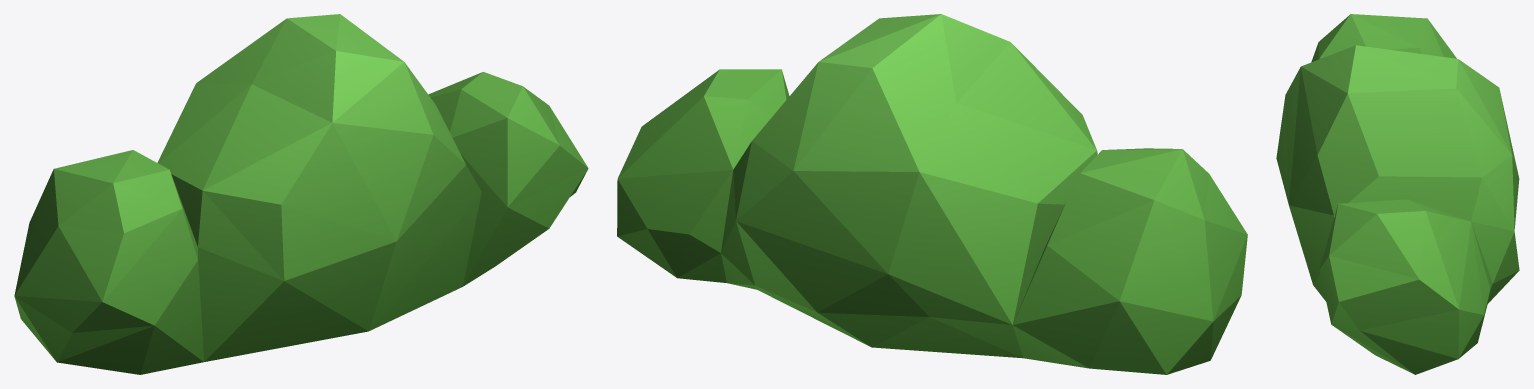
Rendered from bush_crown_green.fbx.
The picture shows the model from 3 angles, left to right: view 1: azimuth 30°, elevation 25°; view 2: azimuth 150°, elevation 25°; view 3: azimuth 270°, elevation 25°; orthographic projection. The views are drawn at different scales.
Parts seen in each view (by area): view 1: bush_crown_green; view 2: bush_crown_green; view 3: bush_crown_green.
Boxes of the visible parts, box(x1,y1,x2,y2) form: bush_crown_green: box(14, 14, 588, 374); bush_crown_green: box(617, 14, 1247, 374); bush_crown_green: box(1276, 14, 1519, 374).
Bounding box in the file's own units: 3.2 × 1.5 × 1.4.
Materials: 1 (1 with a texture image).
